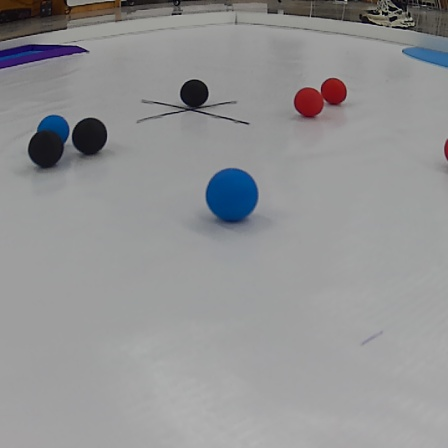black: (70, 116, 107, 159), (180, 75, 212, 107)
blue: (204, 160, 266, 219), (38, 104, 71, 141)
blue_aim: (0, 40, 94, 70)
blue_base: (399, 40, 448, 69)
red: (291, 88, 330, 118), (322, 75, 347, 108)
yellow: (25, 132, 67, 169)
